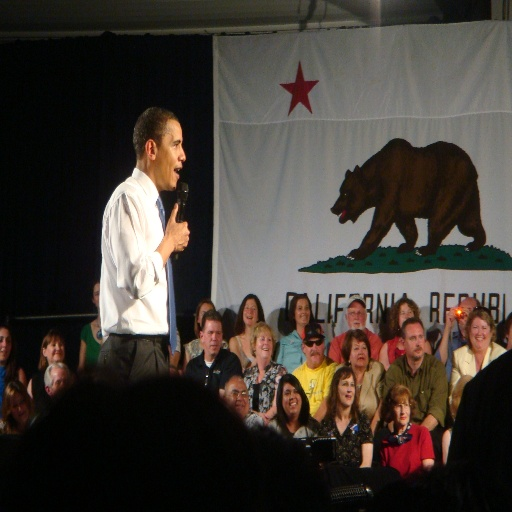hand: (153, 206, 190, 268), (457, 308, 472, 332), (445, 308, 457, 331), (255, 413, 269, 427)
